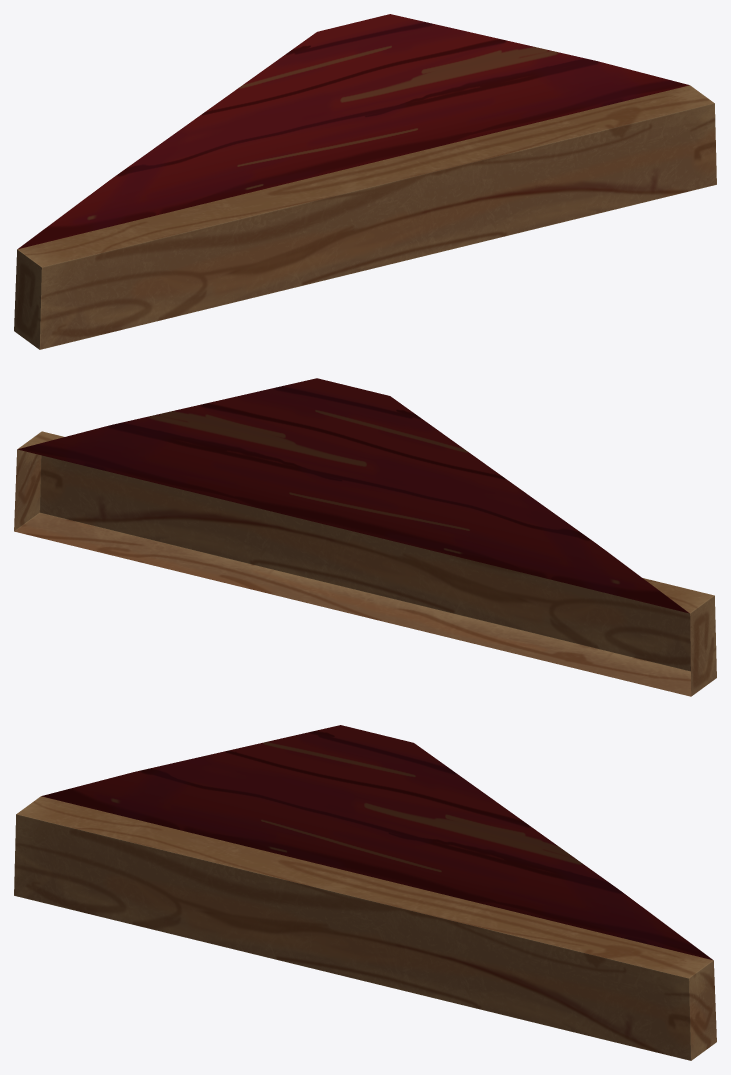
Rendered from SM_triangle_big.fbx.
3 renders of one model, top to bottom at view 1: azimuth 30°, elevation 25°; view 2: azimuth 150°, elevation 25°; view 3: azimuth 330°, elevation 25°, orthographic.
Visible parts, largest first — view 1: traingle_b; view 2: traingle_b; view 3: traingle_b.
Boxes of the visible parts, x1,y1,x2,y2 form: traingle_b: (14,14,716,349); traingle_b: (14,378,716,696); traingle_b: (14,725,716,1060).
Bounding box in the file's own units: 399 × 127 × 26.27.
Materials: 2 (2 with a texture image).
